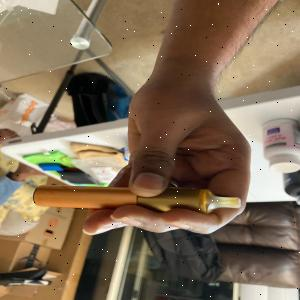Golden-E-Ciggirate: (28, 182, 247, 212)
